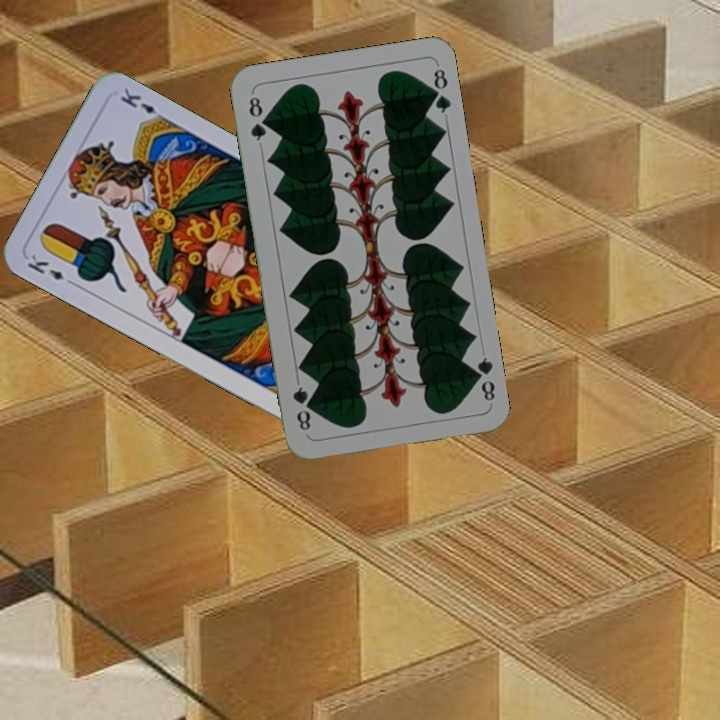EK: (23, 250, 79, 289)
G8: (468, 353, 498, 403), (244, 92, 270, 144)
